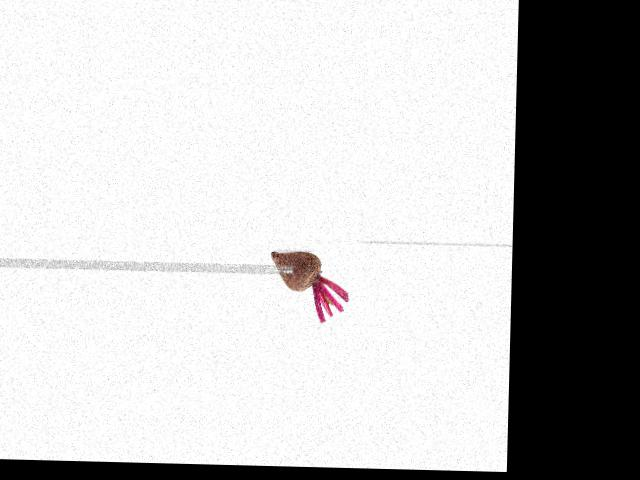beet: (268, 250, 349, 323)
